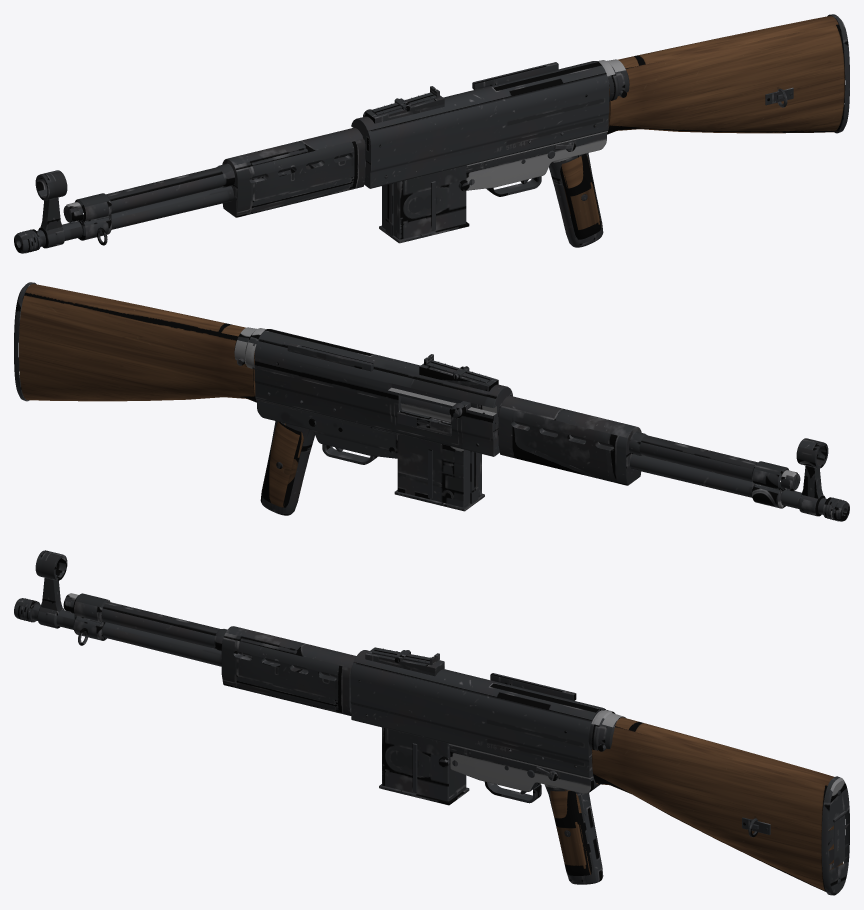
The model's file is afstg44_lod1.fbx.
The picture shows the model from 3 angles, top to bottom: view 1: azimuth 30°, elevation 25°; view 2: azimuth 150°, elevation 25°; view 3: azimuth 330°, elevation 25°; orthographic projection.
Visible parts, largest first — view 1: STG_LOD_1; view 2: STG_LOD_1; view 3: STG_LOD_1.
Part boxes in pixels (x1=…): STG_LOD_1: x1=14, y1=14, x2=849, y2=253; STG_LOD_1: x1=14, y1=282, x2=849, y2=521; STG_LOD_1: x1=14, y1=550, x2=849, y2=895.
Bounding box in the file's own units: 87.8 × 7.36 × 20.42.
